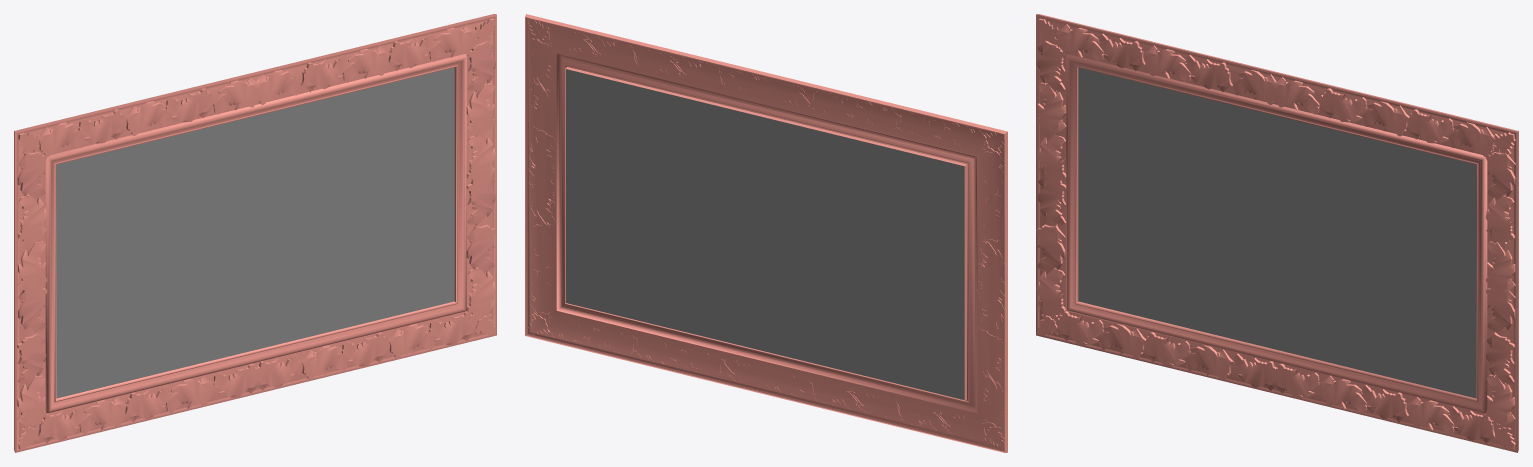
Rendered from picture.FBX.
3 views of the same model, side by side, from view 1: azimuth 30°, elevation 25°; view 2: azimuth 150°, elevation 25°; view 3: azimuth 330°, elevation 25° (orthographic).
Parts seen in each view (by area): view 1: Frame; view 2: Frame; view 3: Frame.
Part boxes in pixels (x1=…): Frame: x1=14, y1=14, x2=496, y2=452; Frame: x1=525, y1=14, x2=1007, y2=452; Frame: x1=1036, y1=14, x2=1518, y2=452.
Bounding box in the file's own units: 118 × 75.11 × 1.68.
